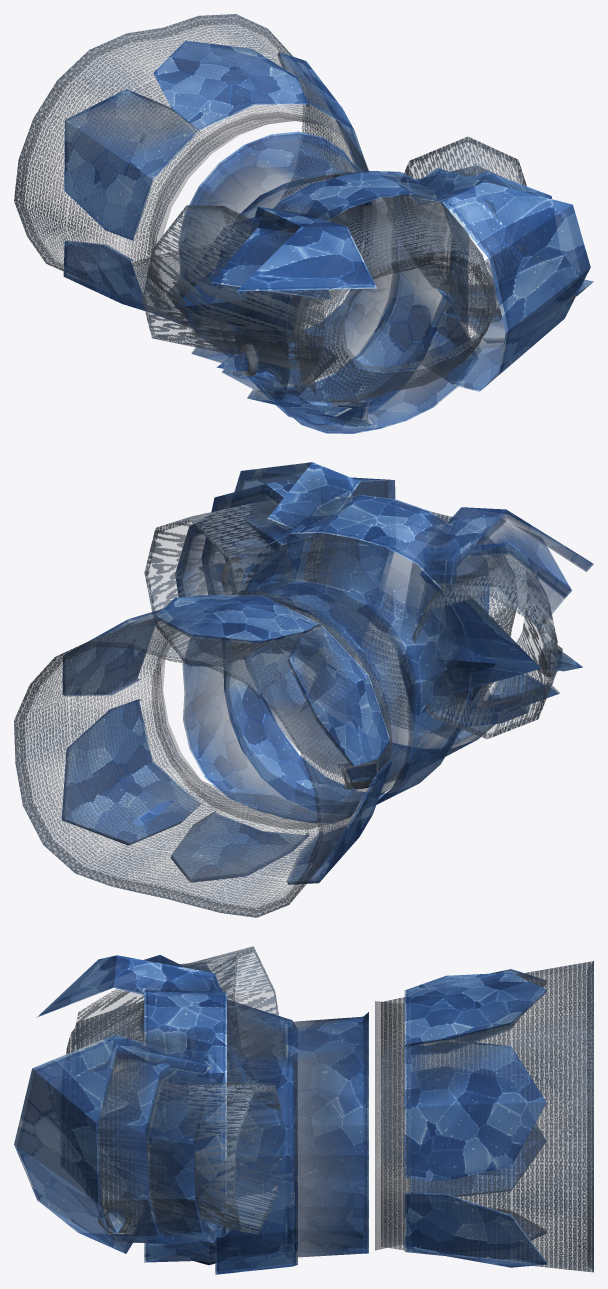
Rendered from cuirasse_saphir_enchante.glb.
3 renders of one model, top to bottom at view 1: azimuth 30°, elevation 25°; view 2: azimuth 150°, elevation 25°; view 3: azimuth 270°, elevation 25°, orthographic. The views are drawn at different scales.
Visible parts, largest first — view 1: cuirasse_saphir.001; view 2: cuirasse_saphir.001; view 3: cuirasse_saphir.001.
Part boxes in pixels (box(x1,y1,x2,y2)): cuirasse_saphir.001: box(14, 14, 593, 433); cuirasse_saphir.001: box(14, 462, 593, 917); cuirasse_saphir.001: box(14, 946, 593, 1274).
Size of the model in its own units: 0.7996 by 0.5136 by 0.9801.
Materials: 5 (5 with a texture image).
